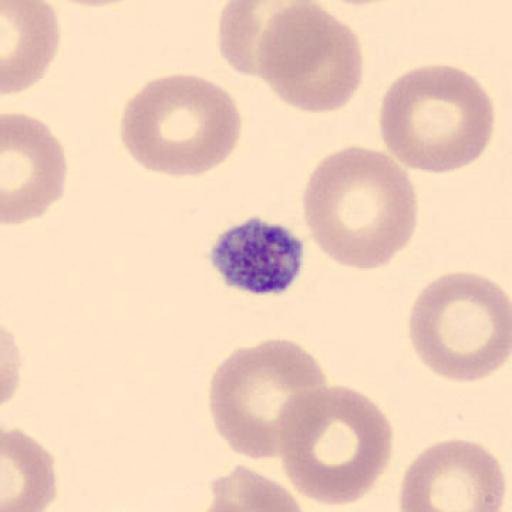Platelet: (205, 214, 308, 296)
RBC: (301, 143, 419, 273), (207, 336, 328, 460), (274, 383, 394, 508), (378, 62, 496, 175), (120, 72, 243, 180), (256, 2, 364, 114), (408, 270, 512, 384), (216, 1, 343, 77), (398, 436, 508, 512), (2, 111, 68, 226), (0, 0, 60, 97), (202, 464, 306, 512), (2, 427, 58, 512), (216, 0, 263, 76), (0, 322, 23, 410), (48, 0, 140, 7)
